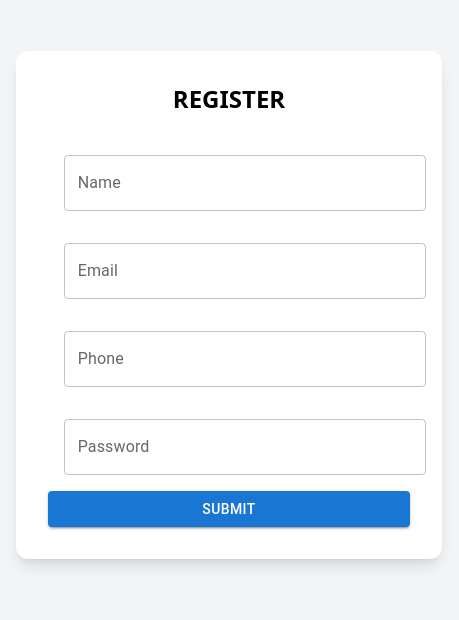
Test case: Register Form › shows specific error for invalid email
Type "invalid-email" into the field labelled "Email" at (245, 271), box [64, 243, 426, 299]
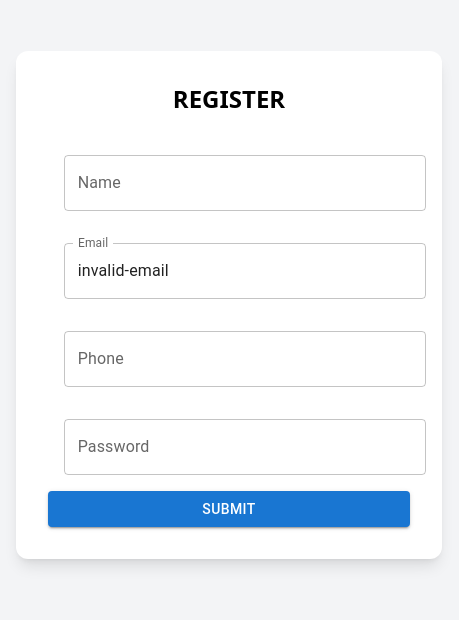
Click the button "SUBMIT" at (229, 509), box [48, 491, 410, 527]
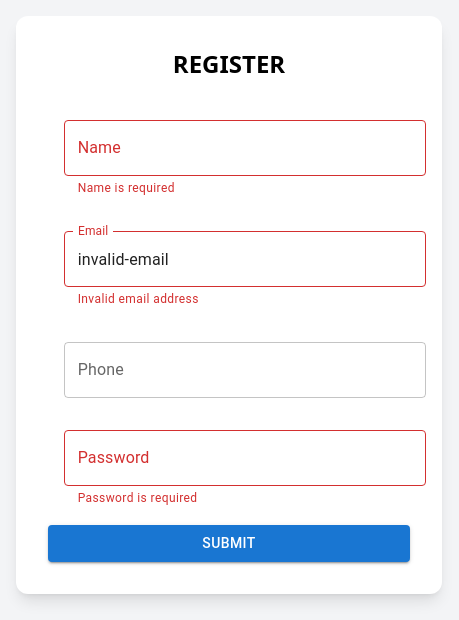
expect the text "Invalid email address" is shown: met, box [78, 292, 199, 306]
